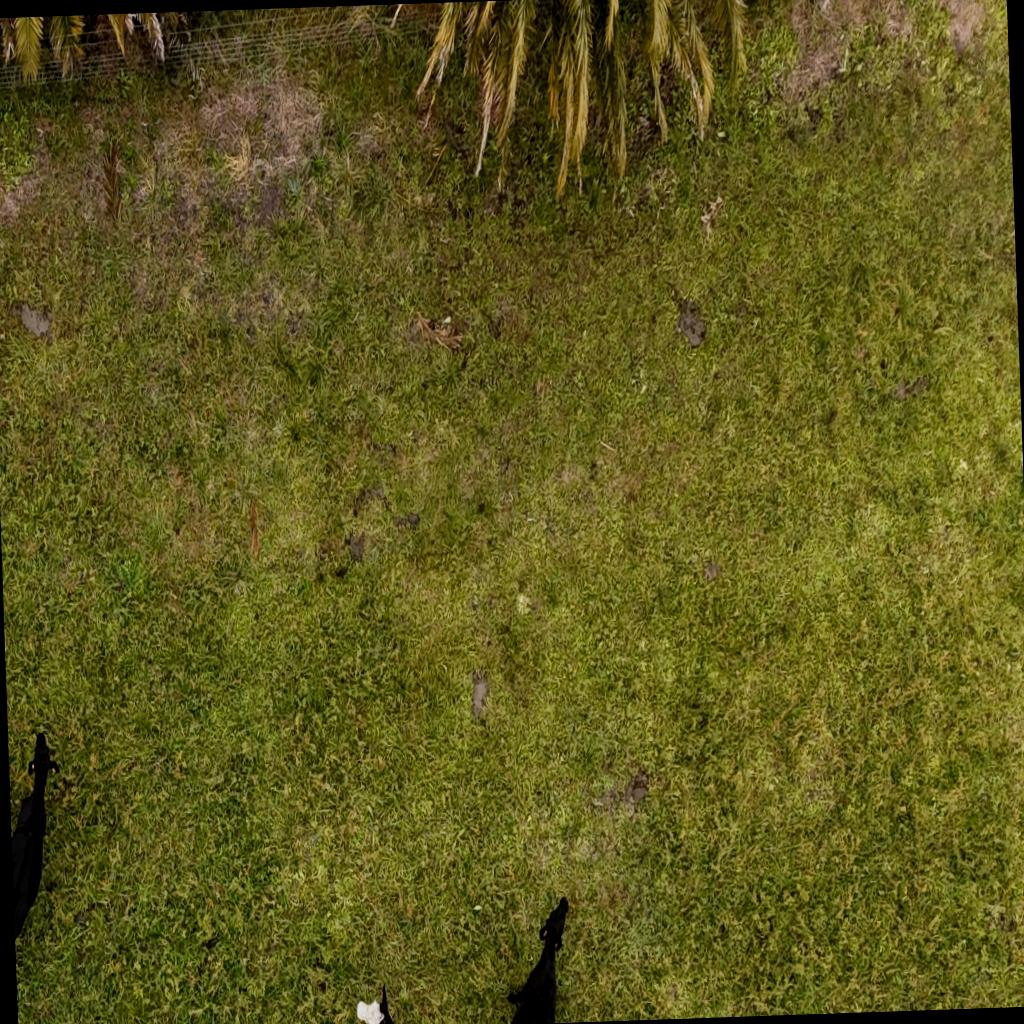cow: (8, 725, 70, 961), (500, 889, 576, 1024), (354, 979, 397, 1024)
